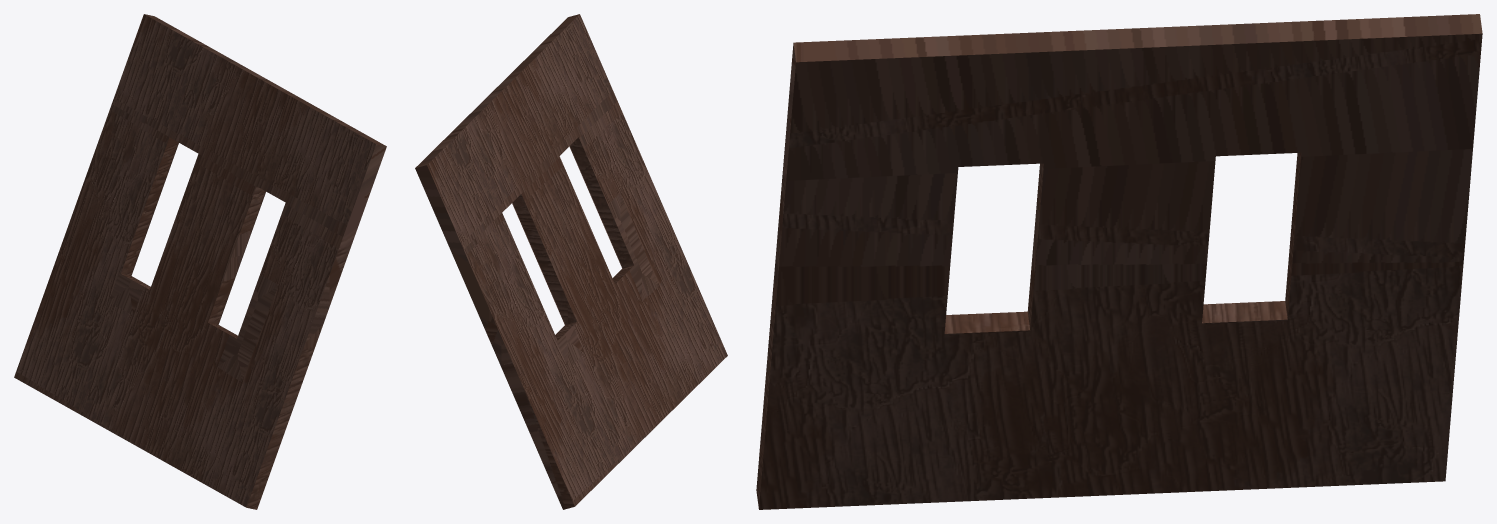
File: barricade.fbx
3 renders of one model, left to right at view 1: azimuth 30°, elevation 25°; view 2: azimuth 150°, elevation 25°; view 3: azimuth 270°, elevation 25°, orthographic. The views are drawn at different scales.
Parts seen in each view (by area): view 1: Small_Barricade__7_:SmallBarricade_7_; view 2: Small_Barricade__7_:SmallBarricade_7_; view 3: Small_Barricade__7_:SmallBarricade_7_.
Part boxes in pixels (box(x1,y1,x2,y2)): Small_Barricade__7_:SmallBarricade_7_: box(14, 14, 386, 509); Small_Barricade__7_:SmallBarricade_7_: box(415, 14, 727, 509); Small_Barricade__7_:SmallBarricade_7_: box(756, 14, 1482, 509).
Bounding box in the file's own units: 0.6766 × 1.12 × 1.27.
1 material, 1 textured.
